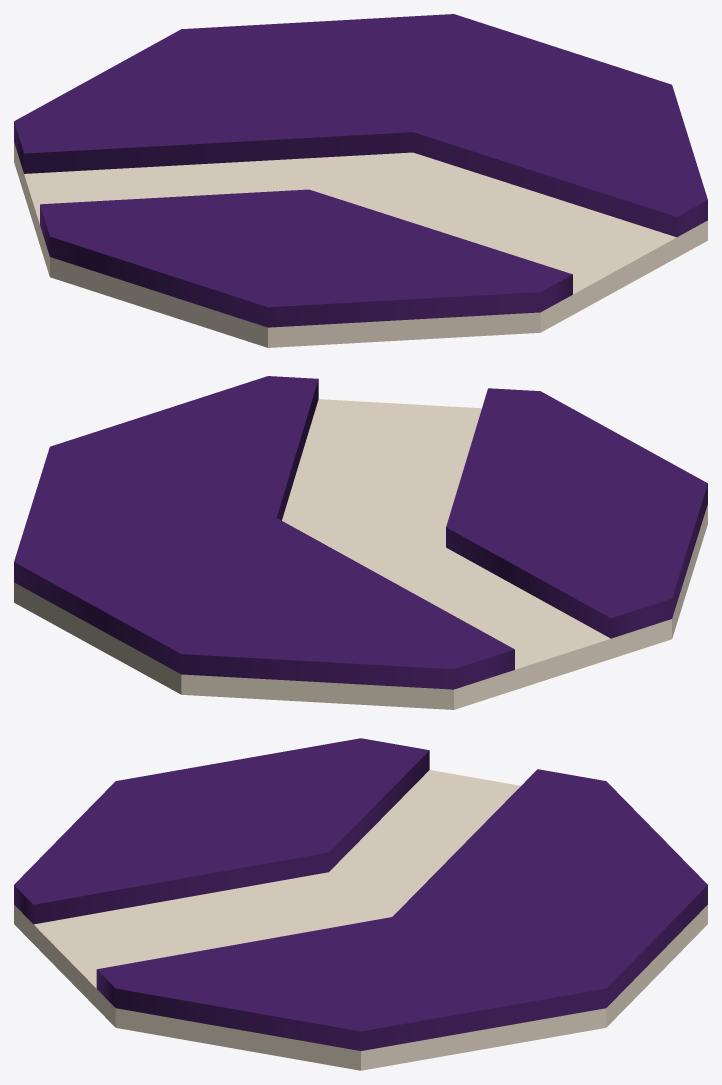
File: Tile_04_Obtuse.FBX
The picture shows the model from 3 angles, top to bottom: view 1: azimuth 30°, elevation 25°; view 2: azimuth 150°, elevation 25°; view 3: azimuth 270°, elevation 25°; orthographic projection. The views are drawn at different scales.
Visible parts, largest first — view 1: NGon075; view 2: NGon075; view 3: NGon075.
Boxes of the visible parts, left/top/right/bottom form: NGon075: left=14, top=14, right=707, bottom=347; NGon075: left=14, top=376, right=707, bottom=709; NGon075: left=14, top=738, right=707, bottom=1070.
Bounding box in the file's own units: 16 × 1 × 16.
